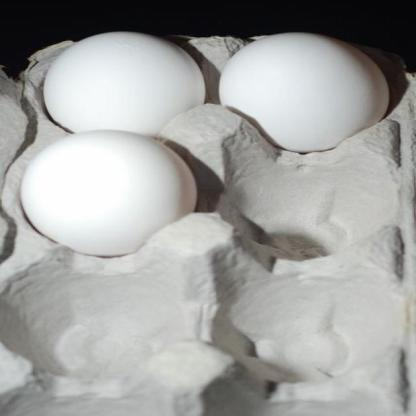egg: (12, 124, 225, 274), (23, 17, 216, 147), (211, 24, 395, 152)
